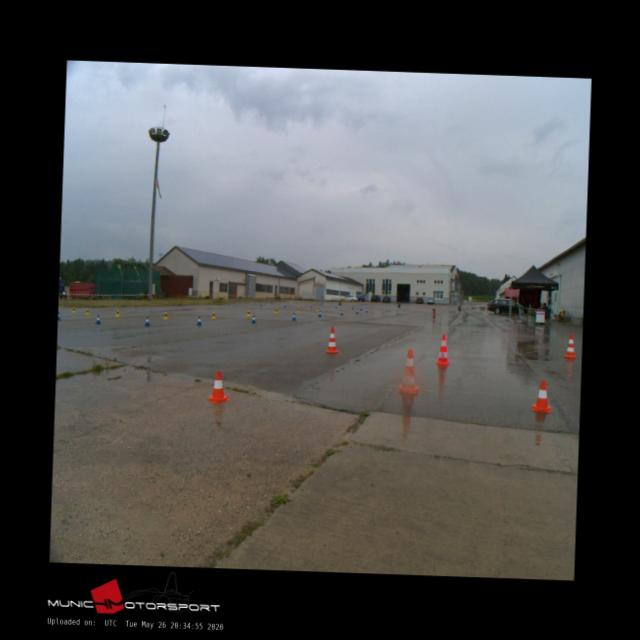blue_cone: (95, 314, 101, 324), (144, 316, 150, 326), (196, 316, 202, 325), (251, 314, 256, 322), (291, 312, 296, 320), (58, 311, 61, 320), (339, 309, 344, 314), (318, 310, 322, 316), (356, 308, 358, 313)
large_orange_cone: (398, 348, 420, 392), (435, 334, 449, 364), (325, 326, 339, 351), (564, 332, 576, 356)
orange_cone: (206, 369, 229, 402), (531, 380, 551, 411)
yellow_cone: (163, 311, 168, 319), (71, 306, 75, 312), (85, 308, 89, 314), (115, 310, 119, 316), (211, 312, 215, 318), (246, 310, 250, 316), (274, 307, 278, 313), (296, 306, 300, 312), (316, 306, 319, 311)
